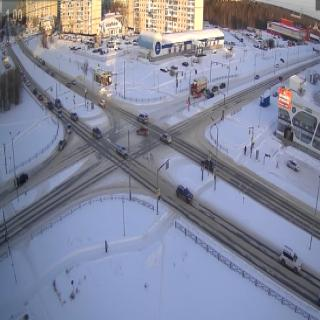large-vehicle: (190, 76, 207, 99)
small-vehicle: (280, 243, 302, 274), (175, 184, 194, 204), (12, 168, 30, 186), (115, 141, 130, 158), (158, 129, 172, 144), (135, 124, 148, 137), (55, 138, 68, 151), (136, 110, 147, 125), (44, 100, 56, 112), (92, 126, 102, 140), (52, 94, 62, 108), (68, 110, 79, 122), (210, 82, 220, 93), (218, 80, 228, 91), (65, 121, 74, 133), (55, 108, 63, 120), (99, 97, 107, 108), (205, 89, 212, 101), (69, 76, 78, 85), (254, 72, 262, 82), (63, 79, 71, 86)
